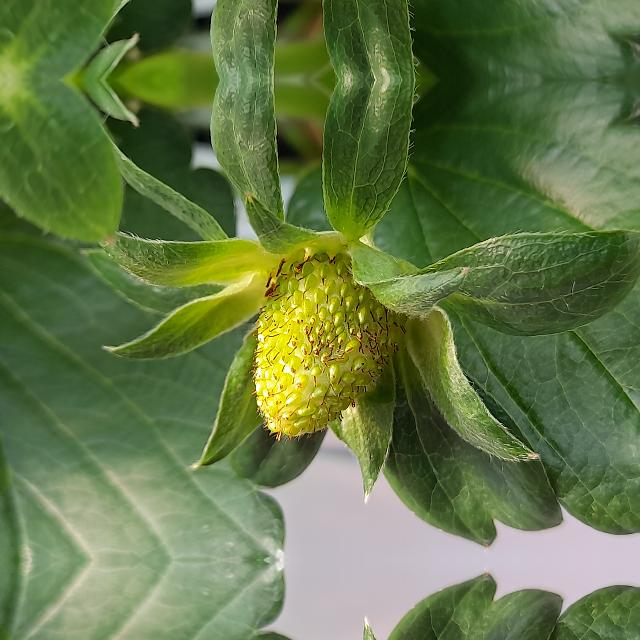Health_25: (250, 248, 406, 440)
